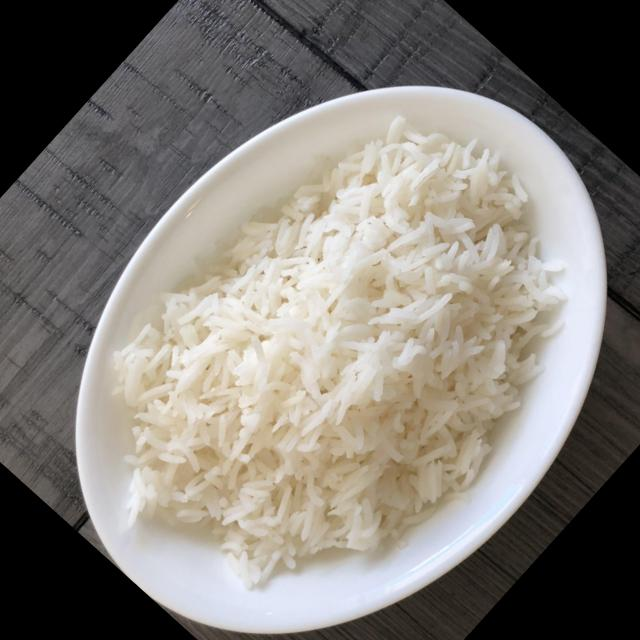rice: (120, 122, 559, 584)
